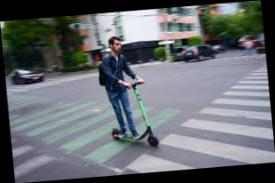nonhelmet: (91, 31, 164, 151)
